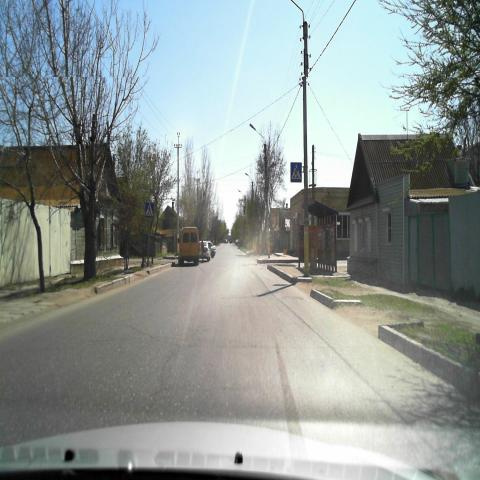5_19_1: (290, 162, 302, 182), (146, 202, 154, 218)
